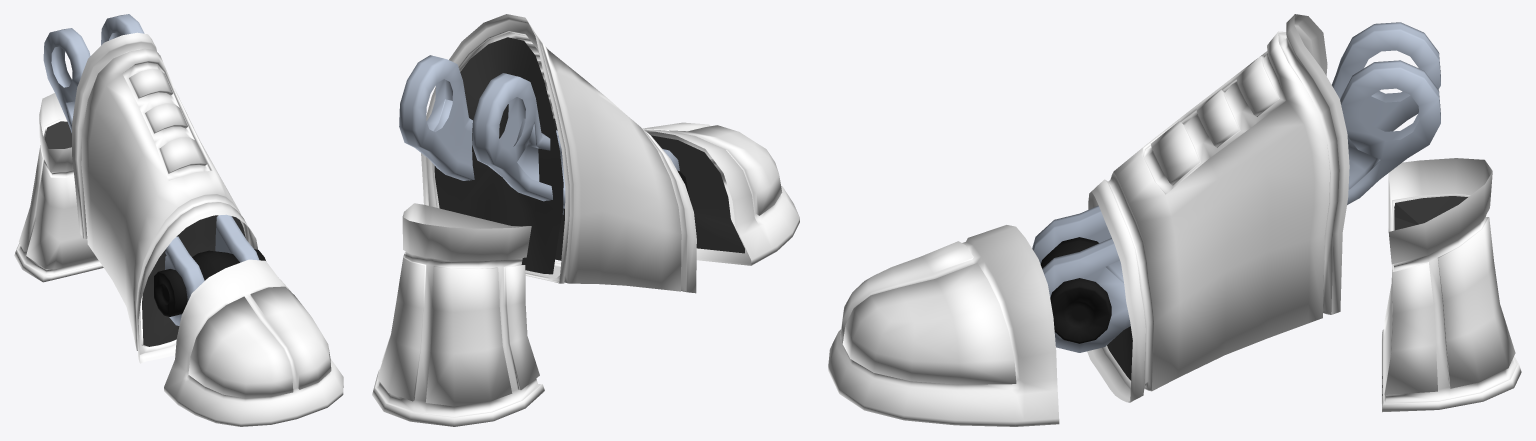
Rendered from leftFoot.dae.
3 views of the same model, side by side, from view 1: azimuth 30°, elevation 25°; view 2: azimuth 150°, elevation 25°; view 3: azimuth 270°, elevation 25° (orthographic). The views are drawn at different scales.
Parts seen in each view (by area): view 1: Mesh_021, Cube_006, Mesh_019, Circle_157; view 2: Mesh_021, Mesh_019, Circle_157, Cube_006; view 3: Mesh_021, Cube_006, Mesh_019, Circle_157.
Part boxes in pixels (x1,y1,x2,y2): Mesh_021: (72,32,258,363); Cube_006: (164,259,343,426); Mesh_019: (14,93,103,282); Circle_157: (43,14,265,325); Mesh_021: (421,14,696,293); Mesh_019: (372,203,544,426); Circle_157: (399,55,687,214); Cube_006: (643,122,799,265); Mesh_021: (1087,14,1349,402); Cube_006: (828,225,1059,426); Mesh_019: (1381,158,1521,412); Circle_157: (1032,22,1440,352).
Size of the model in its own units: 1.42 by 3.91 by 2.21.
